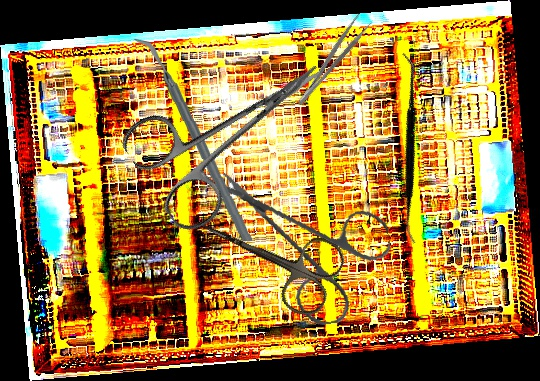Chopper: (132, 33, 255, 247)
Dressing Forceps: (288, 11, 374, 108)
Iris Scissors: (115, 21, 356, 240), (217, 149, 401, 338), (183, 186, 350, 323)
Spatula Surgical: (323, 51, 494, 246)
